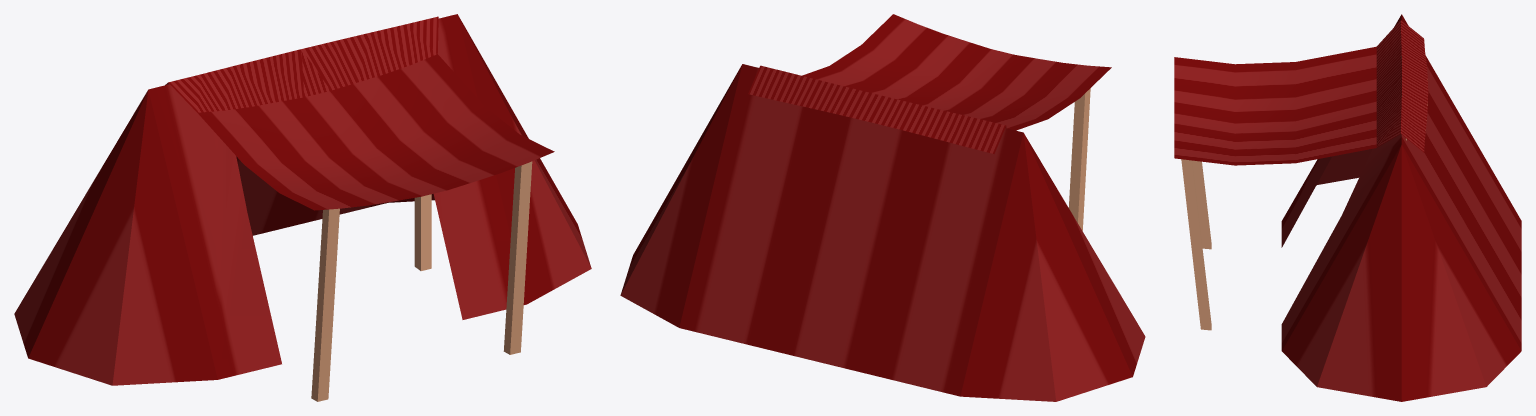
Rendered from CampsiteTent.fbx.
3 renders of one model, left to right at view 1: azimuth 30°, elevation 25°; view 2: azimuth 150°, elevation 25°; view 3: azimuth 270°, elevation 25°, orthographic. The views are drawn at different scales.
Visible parts, largest first — view 1: CampsiteTent; view 2: CampsiteTent; view 3: CampsiteTent.
Boxes of the visible parts, left/top/right/bottom form: CampsiteTent: left=14, top=14, right=591, bottom=401; CampsiteTent: left=620, top=14, right=1145, bottom=401; CampsiteTent: left=1174, top=14, right=1521, bottom=401.
Size of the model in its own units: 4.57 by 1.97 by 2.9.
